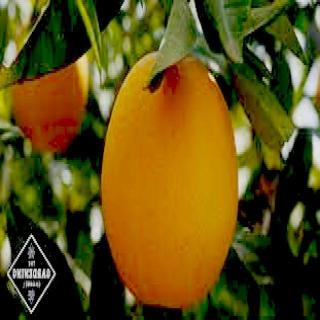orange: (93, 42, 245, 310)
